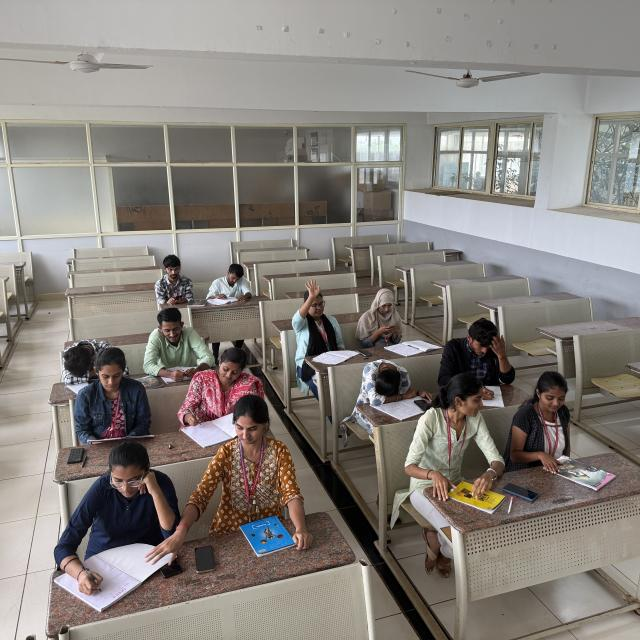Hand Rising: (290, 277, 347, 357)
Reading: (507, 369, 585, 480), (71, 344, 154, 448), (144, 309, 212, 372), (207, 261, 255, 307)
Sleeping: (351, 356, 429, 416), (57, 338, 100, 388)
Using Phone: (357, 286, 410, 347), (155, 254, 196, 308)
Writing: (46, 441, 186, 604), (181, 346, 249, 442), (441, 319, 511, 402)
